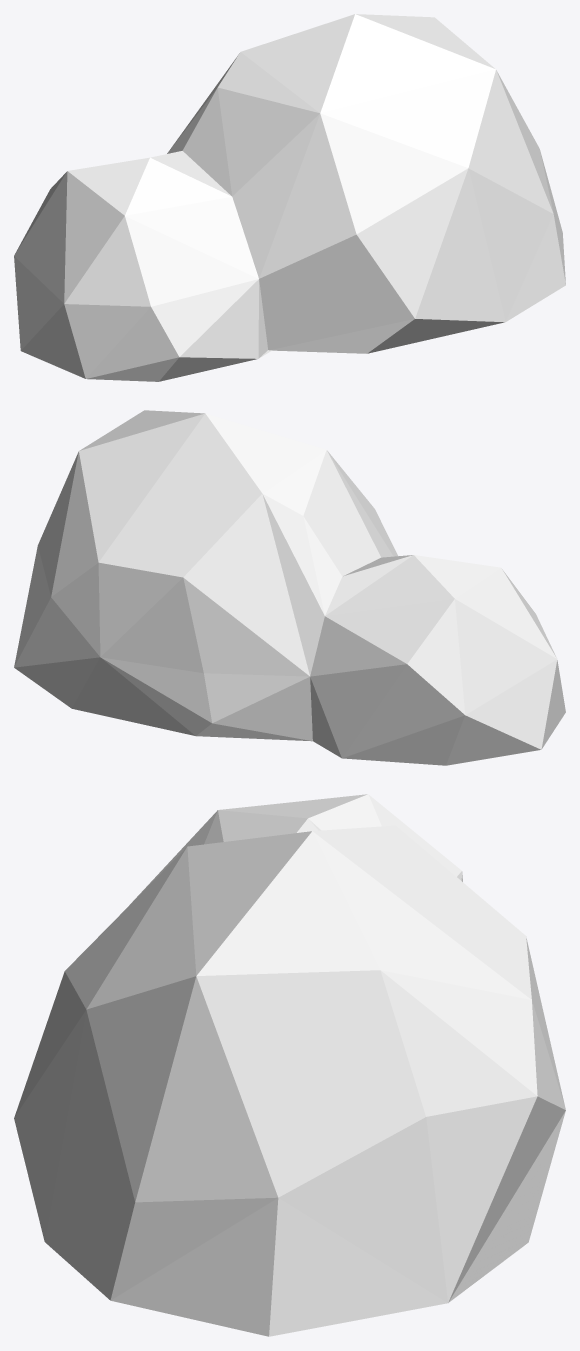
The model's file is cloud_02.FBX.
3 renders of one model, top to bottom at view 1: azimuth 30°, elevation 25°; view 2: azimuth 150°, elevation 25°; view 3: azimuth 270°, elevation 25°, orthographic. The views are drawn at different scales.
Parts seen in each view (by area): view 1: cloud_02; view 2: cloud_02; view 3: cloud_02.
Part boxes in pixels (box(x1,y1,x2,y2)): cloud_02: box(14, 14, 565, 381); cloud_02: box(14, 410, 565, 765); cloud_02: box(14, 794, 565, 1336).
Bounding box in the file's own units: 120 × 55.28 × 74.7.
1 material, 1 textured.
